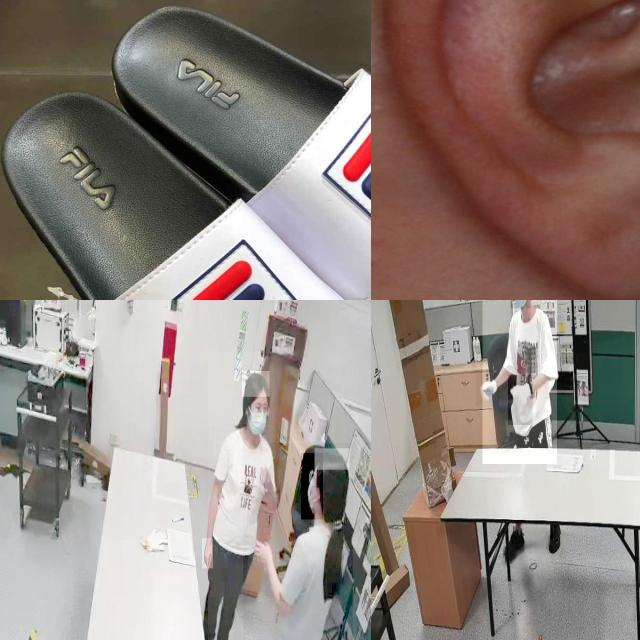No_Ear-Protection: (383, 0, 640, 300)
Sandals: (0, 0, 371, 300)
face_mask: (242, 389, 272, 442), (301, 453, 323, 519), (510, 300, 531, 309)
hand_glove: (508, 375, 533, 426), (476, 371, 500, 407)
hand_noglove: (253, 536, 273, 565), (202, 538, 214, 569)
head_nohelmet: (314, 448, 350, 471), (242, 371, 270, 398)
person: (242, 443, 353, 640), (208, 351, 275, 640), (482, 300, 557, 465)
shoes: (500, 524, 526, 566), (546, 521, 564, 556)
